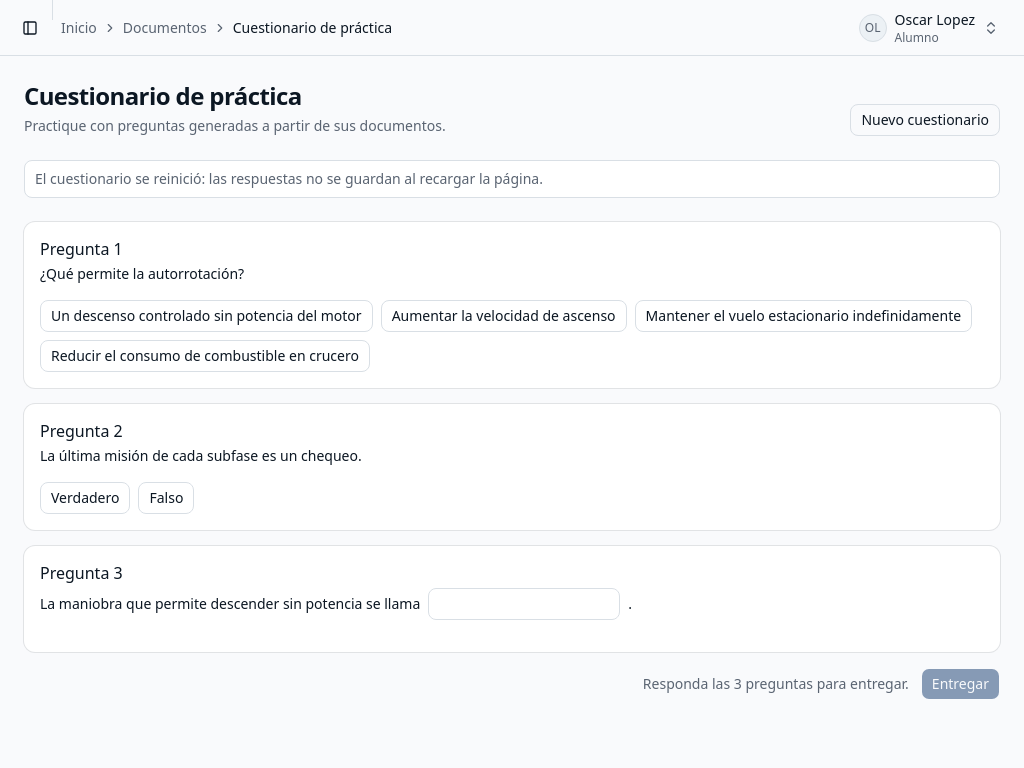
Resolver el cuestionario de práctica › CA-CUE-10 en completar no distingue mayúsculas, tildes ni espacios sobrantes
Expected: the element "Pregunta 1" is shown, [24, 222, 1000, 388]
Click the radio button labelled "Un descenso controlado sin potencia del motor" at (206,316), box [40, 300, 373, 332]
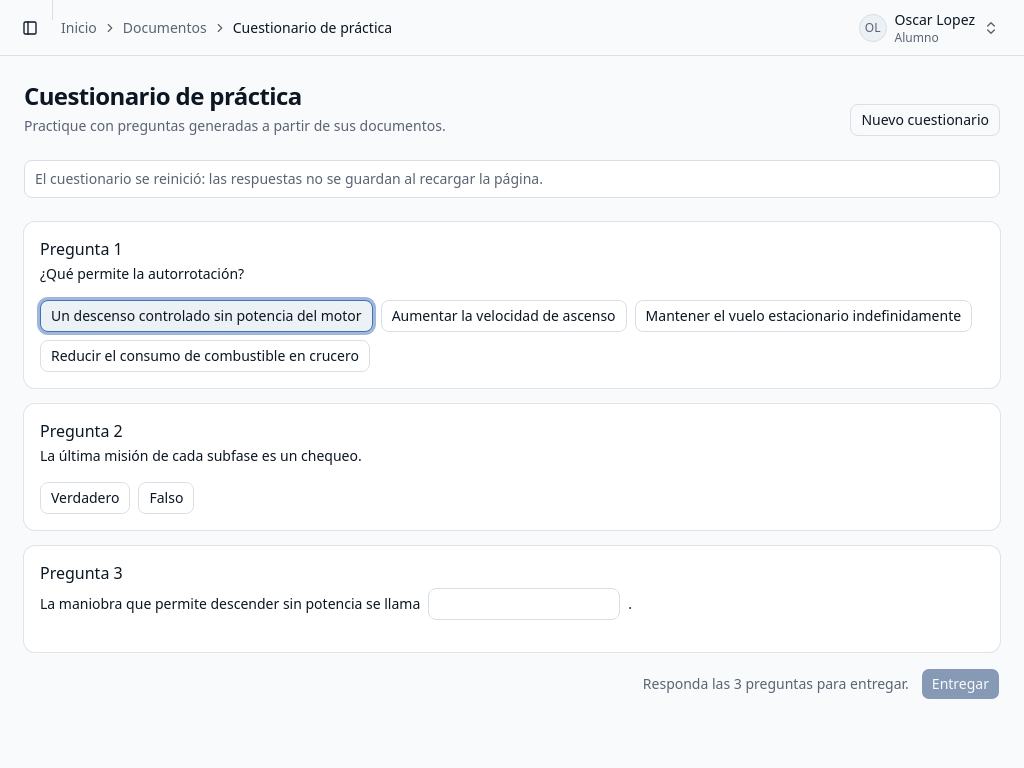
Click the radio button labelled "Verdadero" at (85,498), box [40, 482, 130, 514]
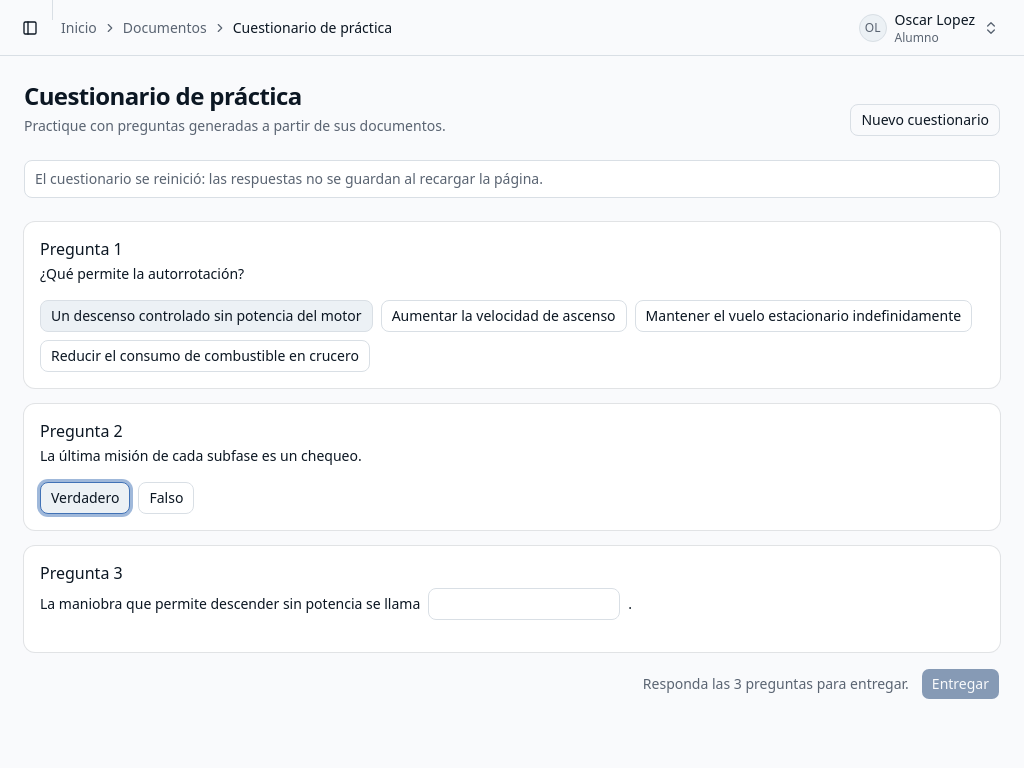
Type "  AutoRRotacion  " into the field named "Respuesta de la pregunta 3" at (524,604), box [428, 588, 620, 620]
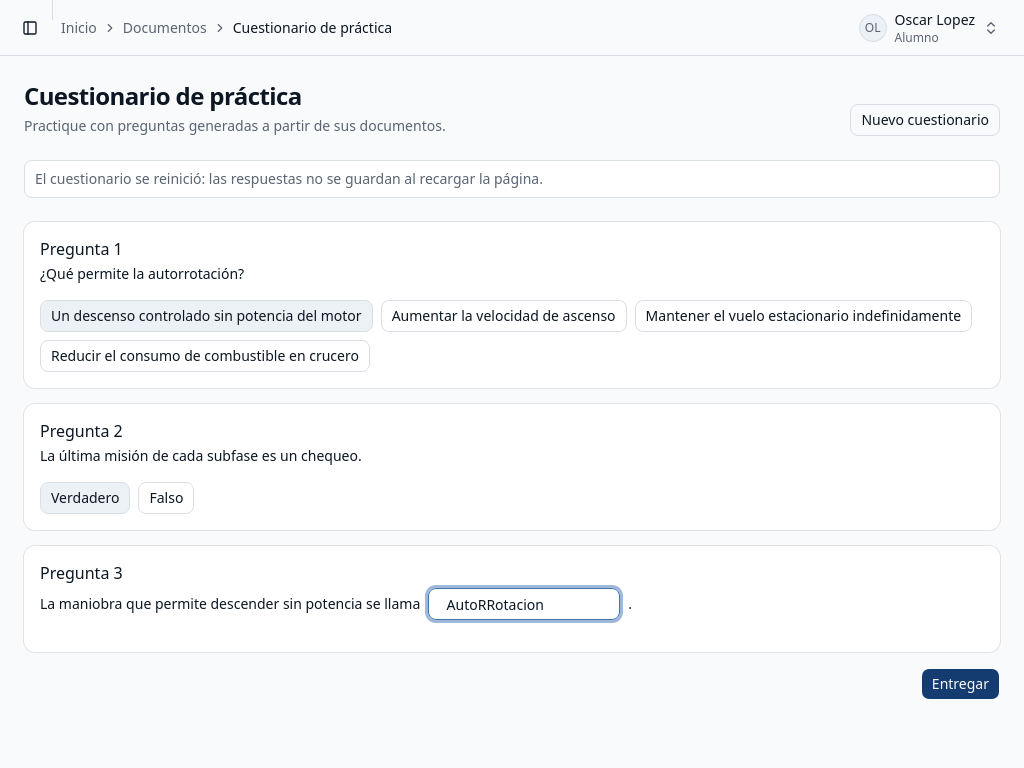
Click the button "Entregar" at (960,684), box [921, 668, 1000, 700]
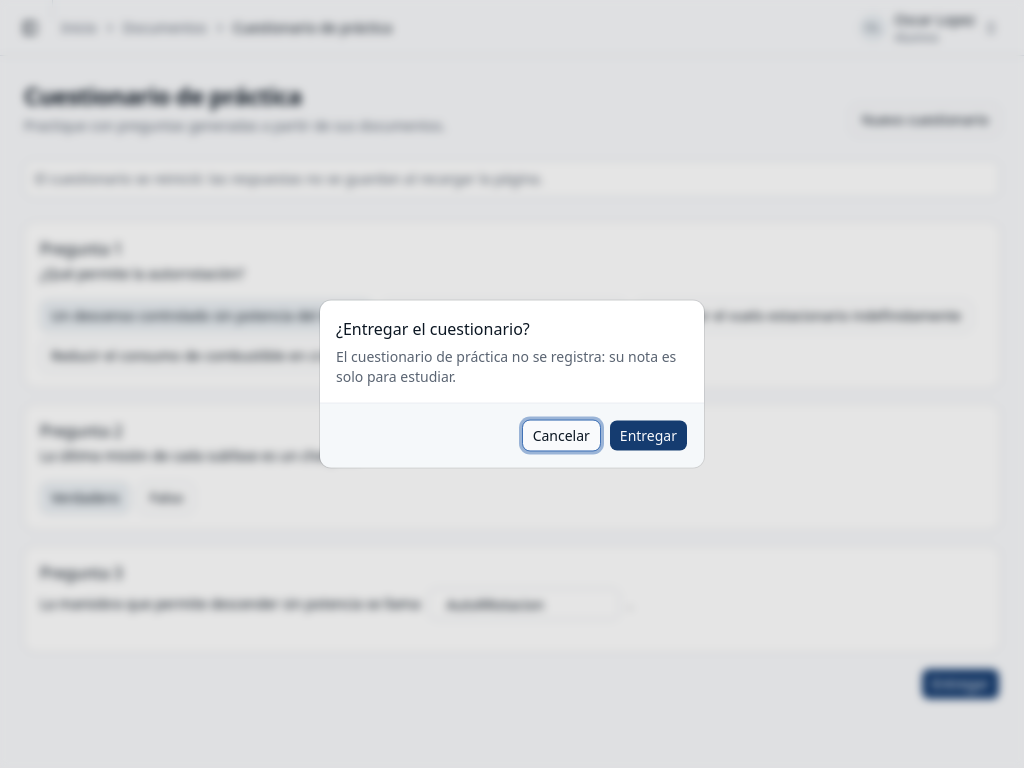
Click the button "Entregar" at (648,436), box [609, 420, 688, 452]
(page scrolled)
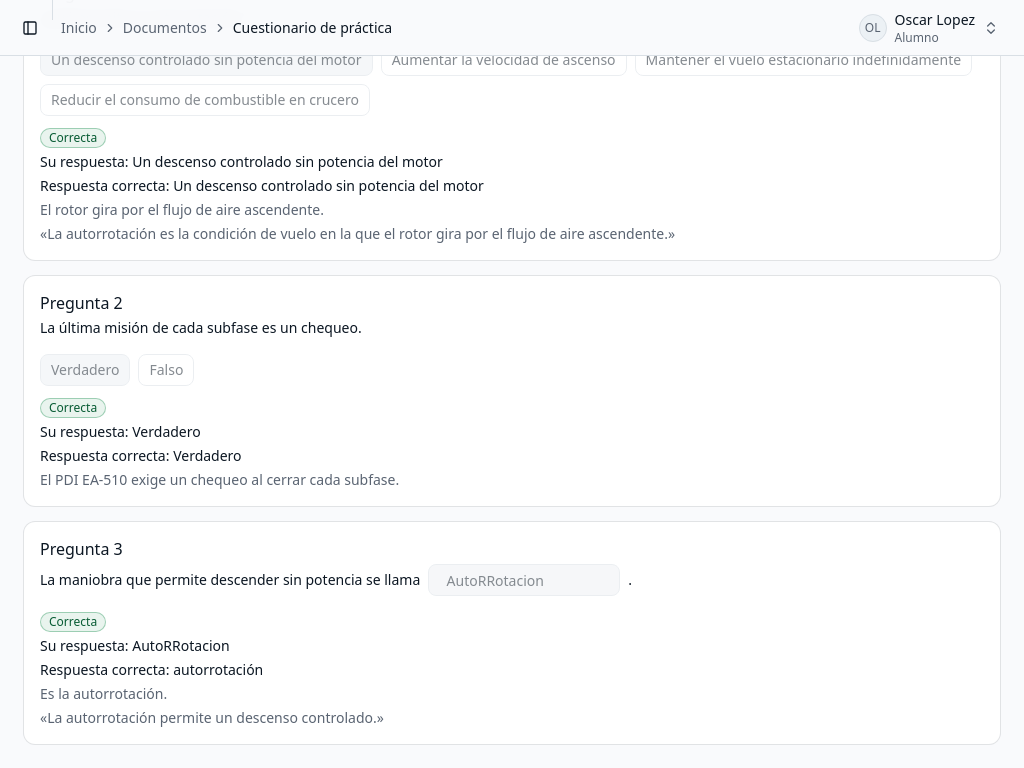
Expected: the 3rd text "Correcta" is shown, [40, 612, 106, 632]
